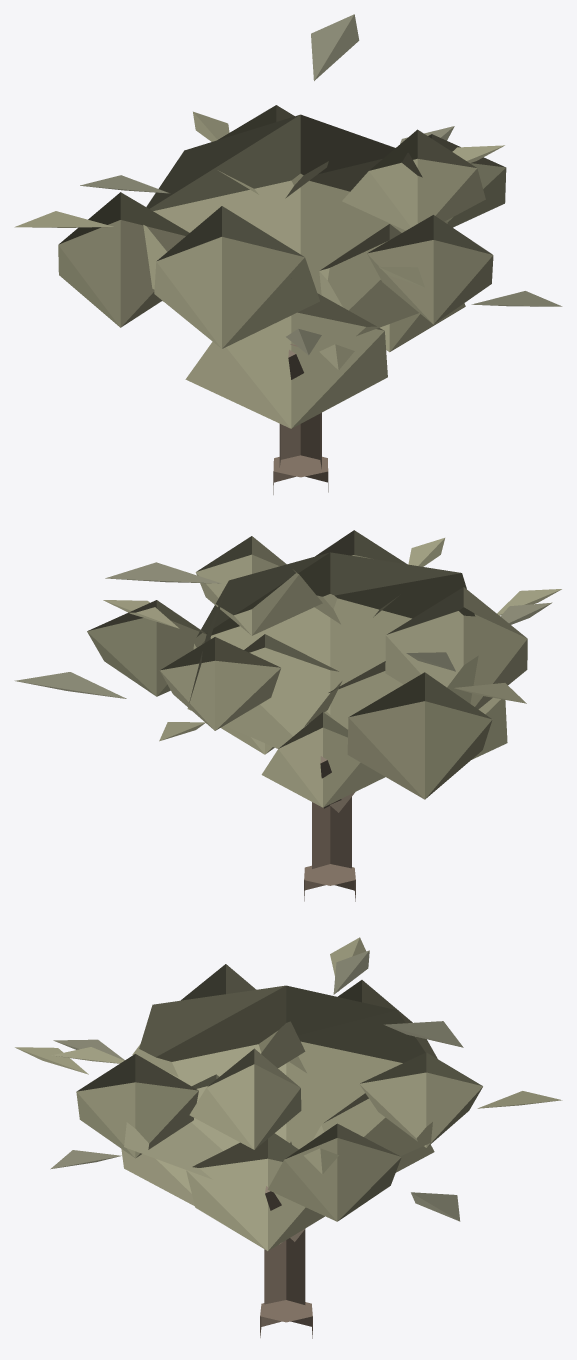
Rendered from shu.ganju@subadult__winter.glb.
The picture shows the model from 3 angles, top to bottom: view 1: azimuth 30°, elevation 25°; view 2: azimuth 150°, elevation 25°; view 3: azimuth 270°, elevation 25°; orthographic projection. The views are drawn at different scales.
Parts seen in each view (by area): view 1: shu.ganju@subadult__winter; view 2: shu.ganju@subadult__winter; view 3: shu.ganju@subadult__winter.
Boxes of the visible parts, x1,y1,x2,y2 form: shu.ganju@subadult__winter: (14, 14, 562, 494); shu.ganju@subadult__winter: (14, 530, 561, 901); shu.ganju@subadult__winter: (15, 937, 562, 1338).
Bounding box in the file's own units: 3.91 × 2.82 × 3.95.
